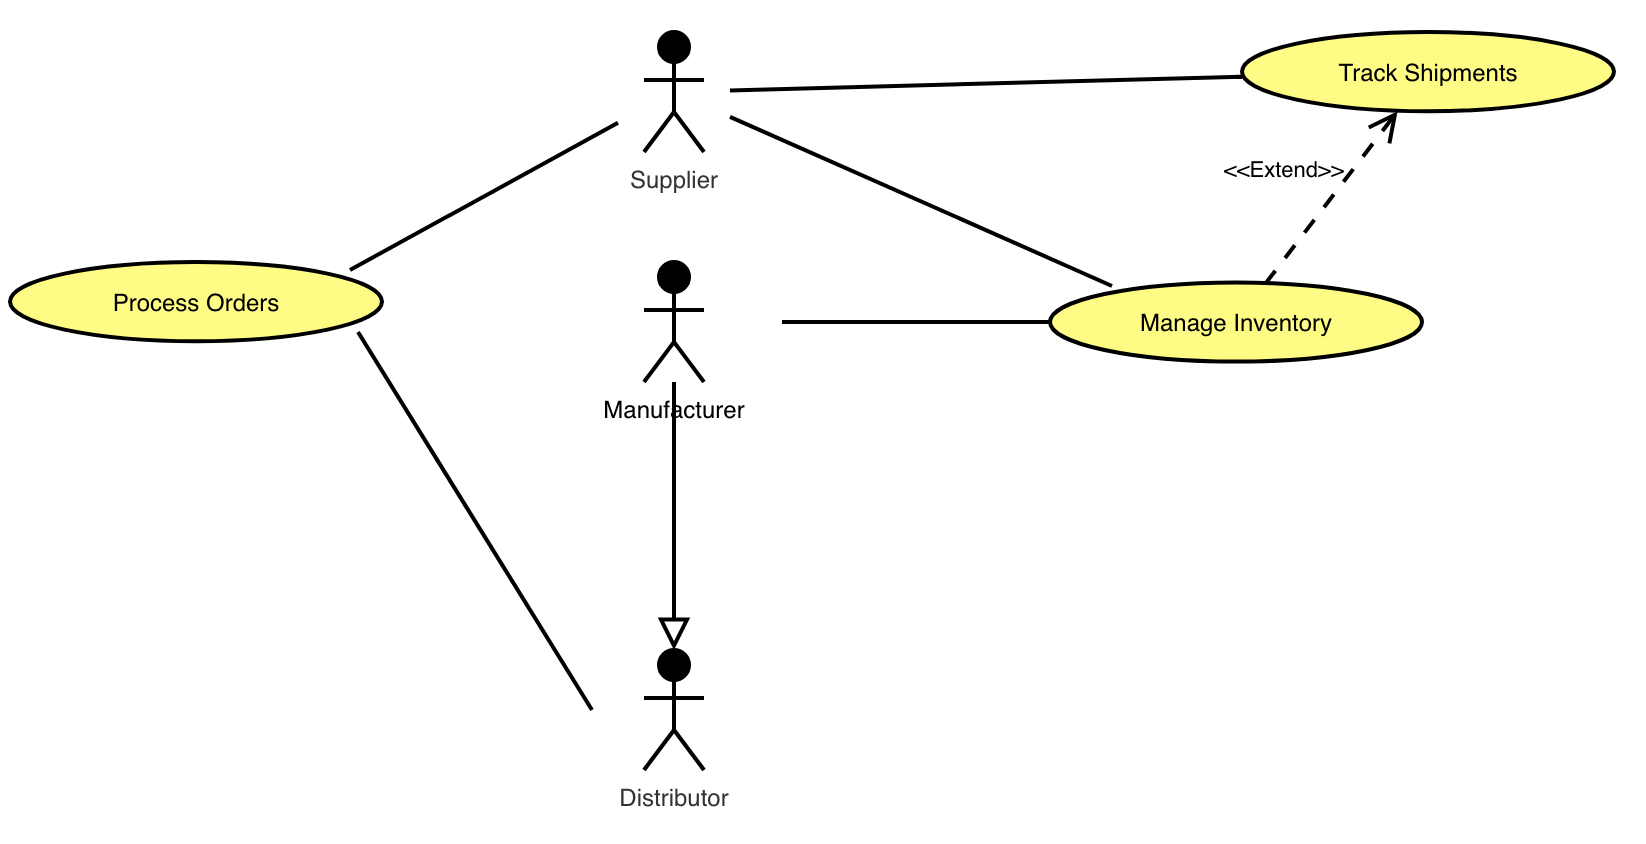actor: (633, 646, 713, 775), (639, 22, 709, 165), (639, 257, 708, 386)
association: (352, 330, 596, 713), (724, 105, 1116, 289), (348, 118, 625, 271), (1264, 111, 1401, 281), (729, 65, 1237, 107), (780, 298, 1045, 343)
generalization: (655, 382, 697, 646)
text: (1123, 309, 1343, 340), (1318, 56, 1530, 87), (105, 289, 280, 318), (601, 396, 749, 427), (1210, 150, 1343, 182), (610, 787, 740, 815), (624, 168, 726, 193)
use_case: (1239, 28, 1618, 118), (8, 258, 383, 347), (1049, 279, 1425, 365)
